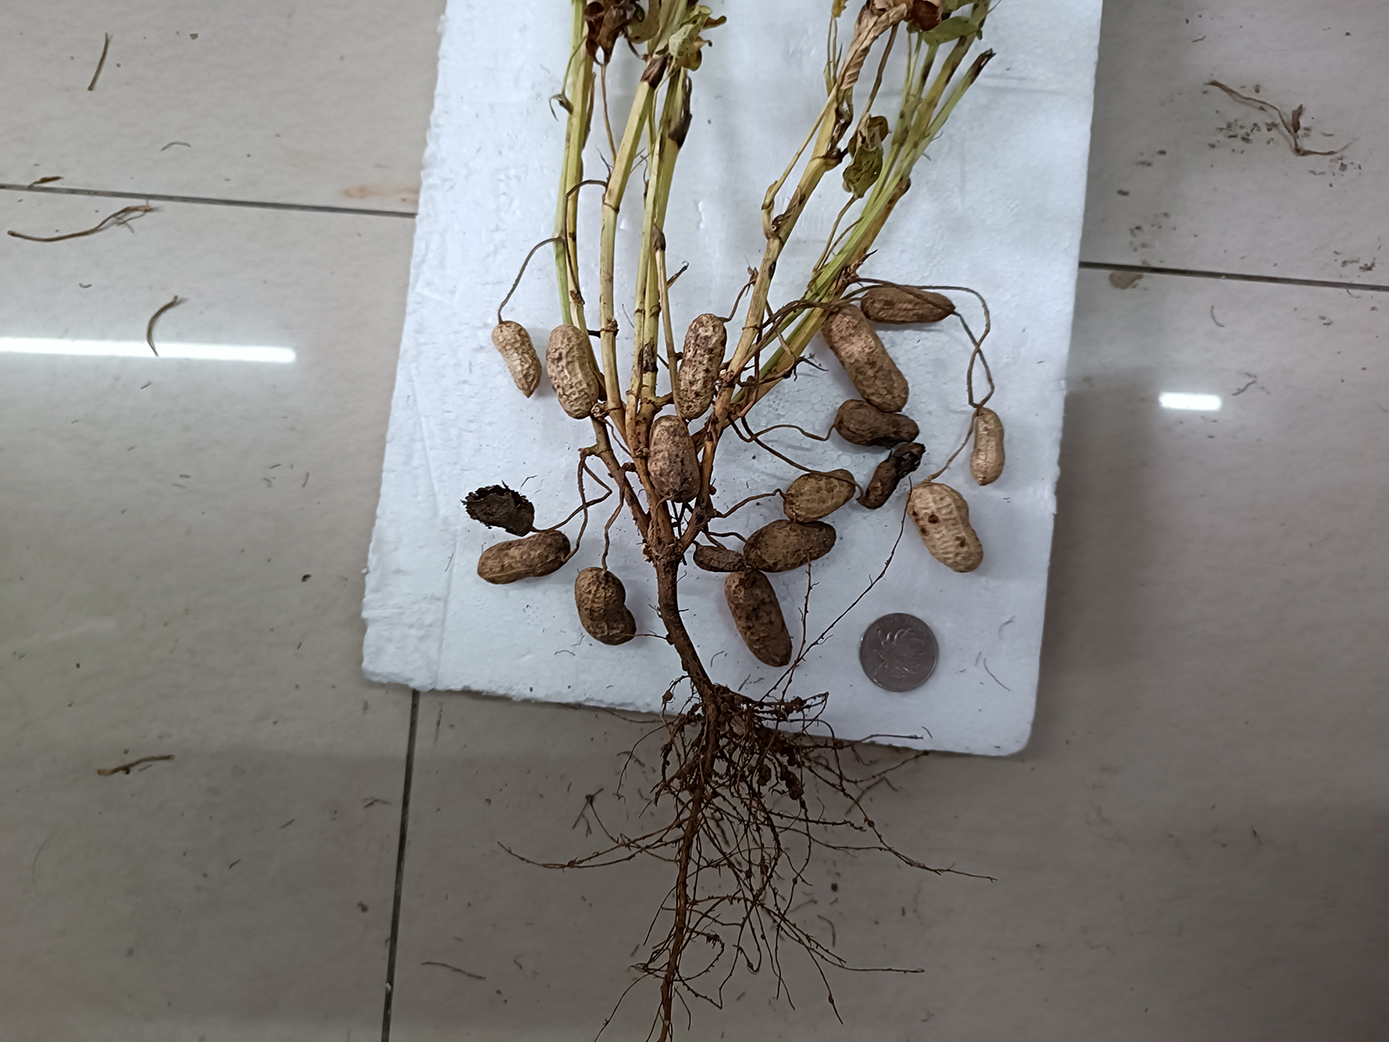h: (821, 304, 910, 413), (905, 482, 983, 574), (546, 323, 599, 420), (574, 566, 637, 645), (645, 415, 701, 503), (491, 320, 542, 400), (782, 468, 856, 521), (969, 407, 1005, 486)
l: (724, 568, 792, 668), (675, 313, 727, 421), (477, 530, 571, 584), (742, 519, 837, 572), (460, 481, 535, 537), (863, 443, 925, 510), (833, 400, 919, 447), (860, 286, 956, 324), (693, 545, 745, 574)
